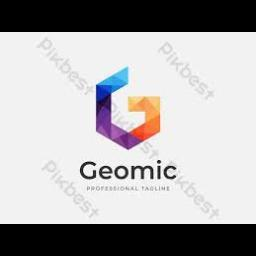g: (91, 65, 173, 157), (74, 153, 98, 183)
